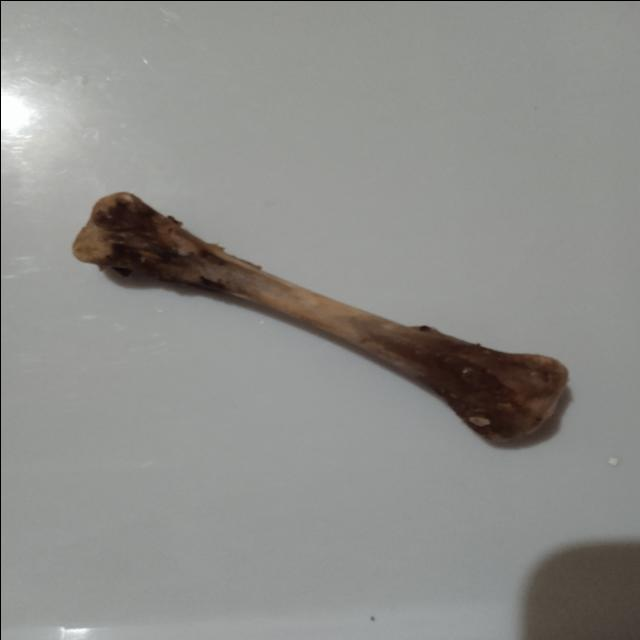bone: (54, 184, 574, 450)
